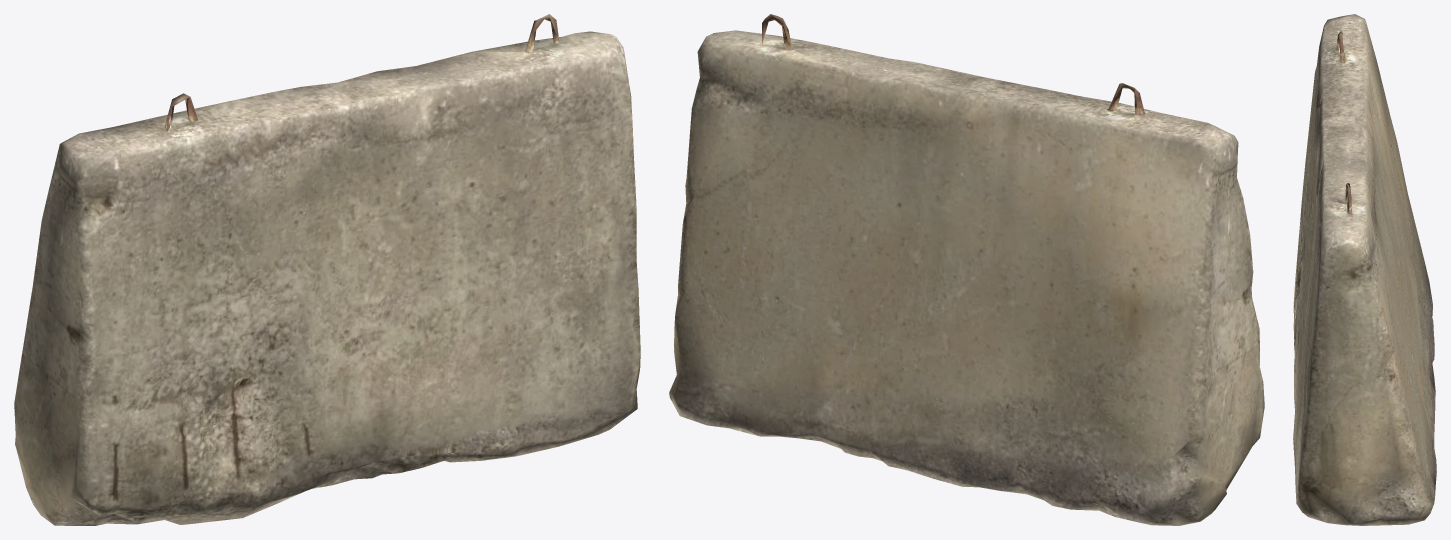
The model's file is concrete_road_barrier_02.glb.
3 views of the same model, side by side, from view 1: azimuth 30°, elevation 25°; view 2: azimuth 150°, elevation 25°; view 3: azimuth 270°, elevation 25° (orthographic). The views are drawn at different scales.
Parts seen in each view (by area): view 1: concrete_road_barrier_02_LOD0; view 2: concrete_road_barrier_02_LOD0; view 3: concrete_road_barrier_02_LOD0.
Boxes of the visible parts, <box> form: concrete_road_barrier_02_LOD0: <box>14,14,640,525</box>; concrete_road_barrier_02_LOD0: <box>669,14,1264,525</box>; concrete_road_barrier_02_LOD0: <box>1293,14,1436,525</box>.
Bounding box in the file's own units: 1.56 × 1.11 × 0.437.
Materials: 1 (1 with a texture image).
